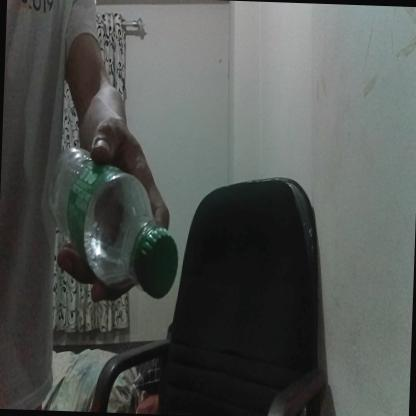plastic_bottles: (43, 146, 181, 295)
